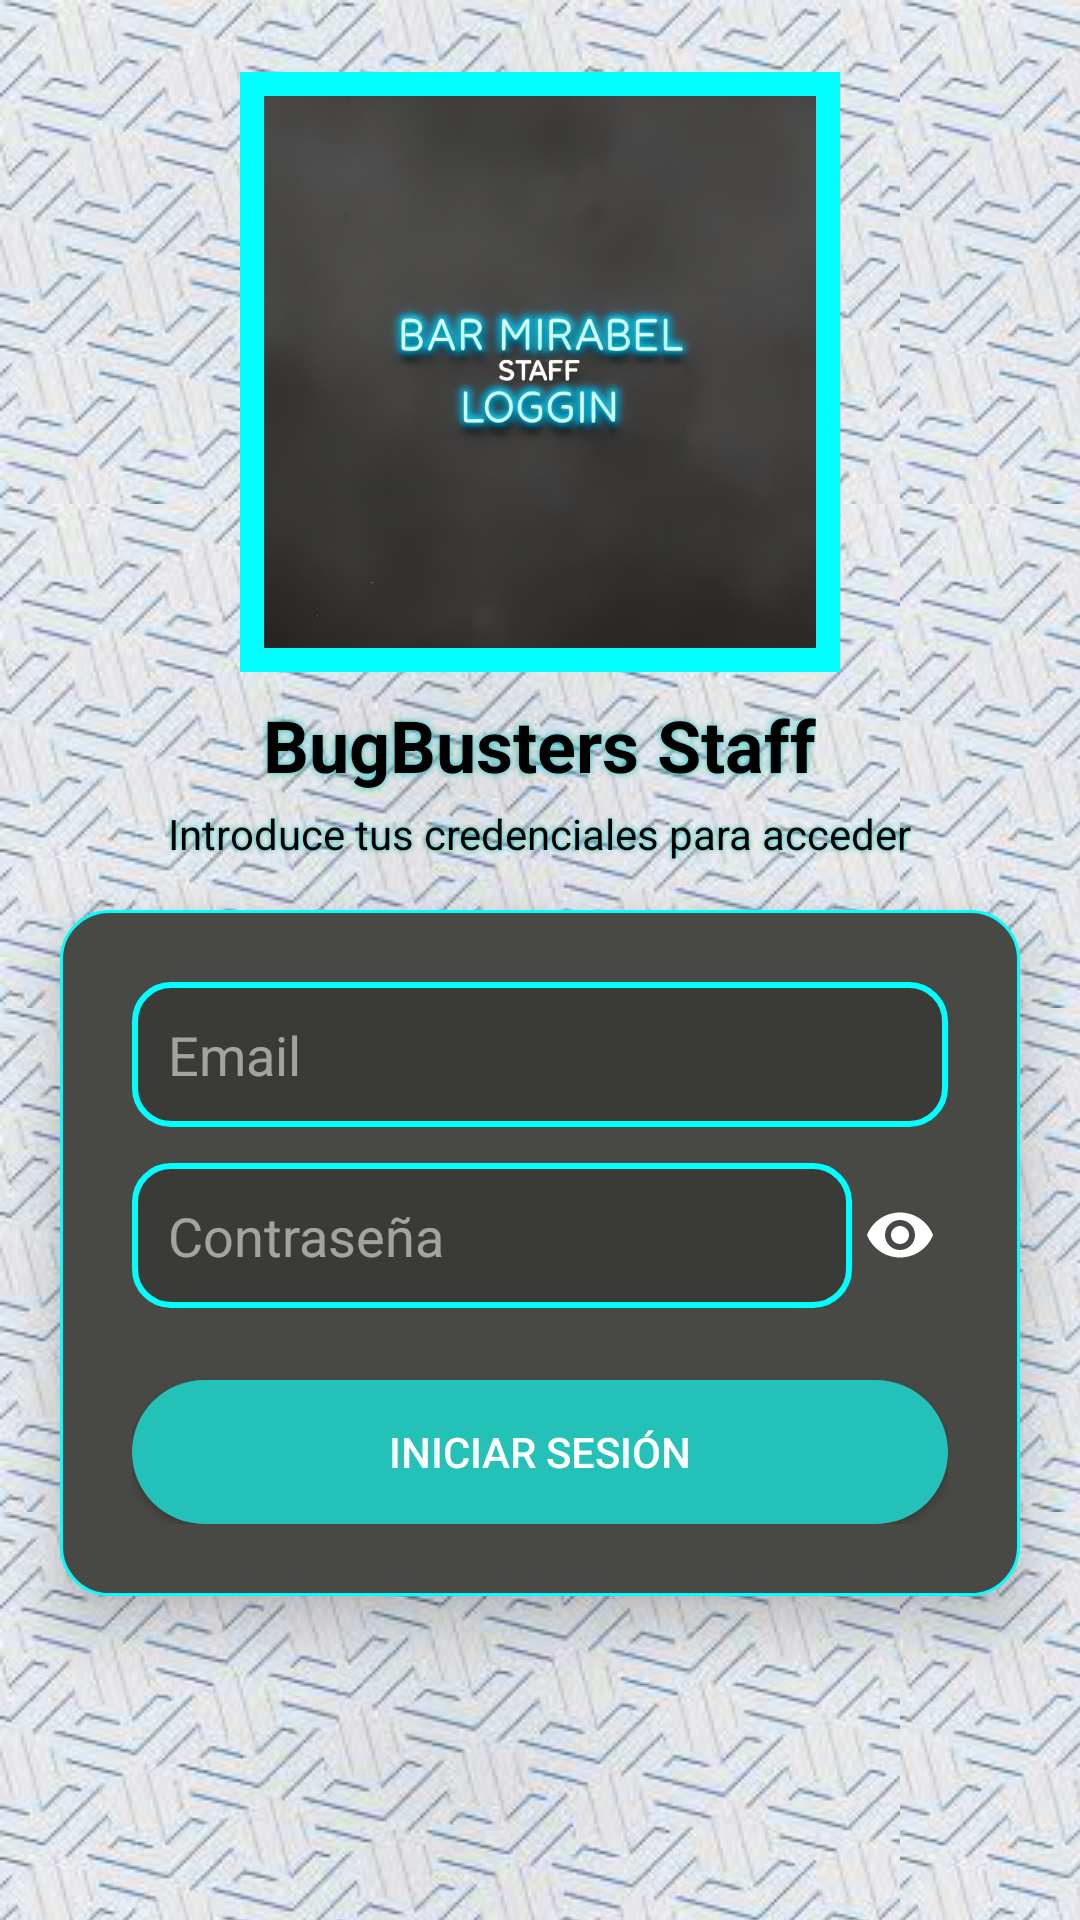

Where icons sit on this 1080 x 1920 app screen, as (x1, y1, x2, y2):
eye: (867, 1212, 933, 1258)
